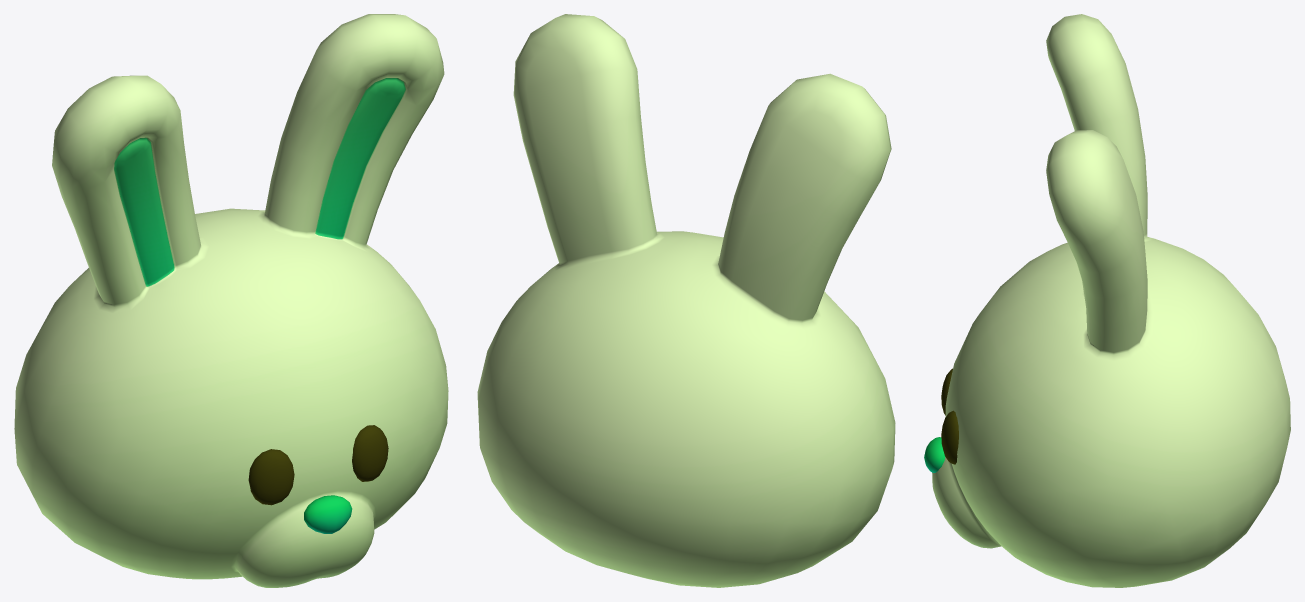
3 views of the same model, side by side, from view 1: azimuth 30°, elevation 25°; view 2: azimuth 150°, elevation 25°; view 3: azimuth 270°, elevation 25° (orthographic). The views are drawn at different scales.
Visible parts, largest first — view 1: RabbitHead; view 2: RabbitHead; view 3: RabbitHead.
Boxes of the visible parts, x1=… form: RabbitHead: x1=14, y1=14, x2=448, y2=587; RabbitHead: x1=477, y1=14, x2=895, y2=587; RabbitHead: x1=924, y1=14, x2=1290, y2=587.
Size of the model in its own units: 0.7856 by 0.9894 by 0.6875.
Materials: 1 (1 with a texture image).
